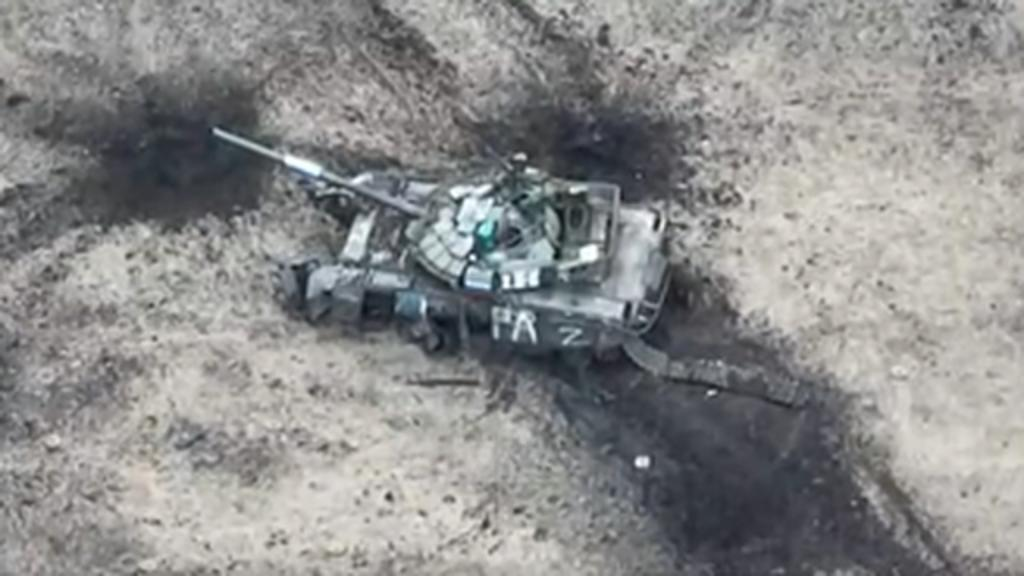TANK: (206, 120, 678, 364)
